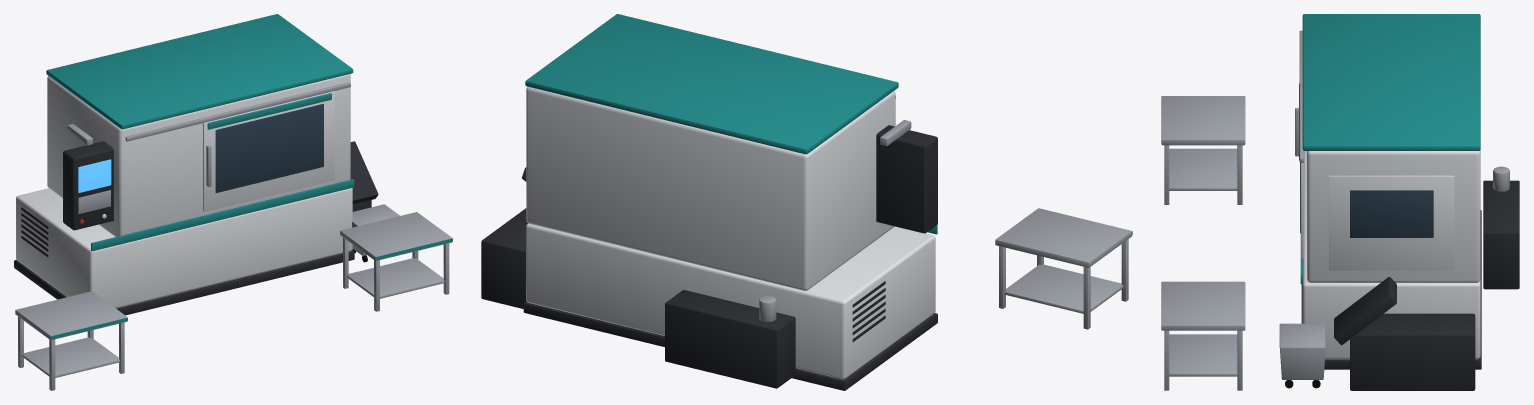
The model's file is Station_CncLathe.fbx.
The picture shows the model from 3 angles, left to right: view 1: azimuth 30°, elevation 25°; view 2: azimuth 150°, elevation 25°; view 3: azimuth 270°, elevation 25°; orthographic projection. The views are drawn at different scales.
Parts seen in each view (by area): view 1: CNC Lathe, Outbound Table, Inbound Table; view 2: CNC Lathe, Inbound Table; view 3: CNC Lathe, Outbound Table, Inbound Table.
Boxes of the visible parts, x1=… form: CNC Lathe: x1=14, y1=14, x2=399, y2=315; Outbound Table: x1=340, y1=212, x2=452, y2=311; Inbound Table: x1=15, y1=291, x2=127, y2=390; CNC Lathe: x1=481, y1=14, x2=937, y2=390; Inbound Table: x1=995, y1=208, x2=1132, y2=329; CNC Lathe: x1=1279, y1=14, x2=1519, y2=390; Outbound Table: x1=1161, y1=281, x2=1245, y2=390; Inbound Table: x1=1161, y1=96, x2=1245, y2=204.
Bounding box in the file's own units: 5.22 × 2.36 × 3.43.
